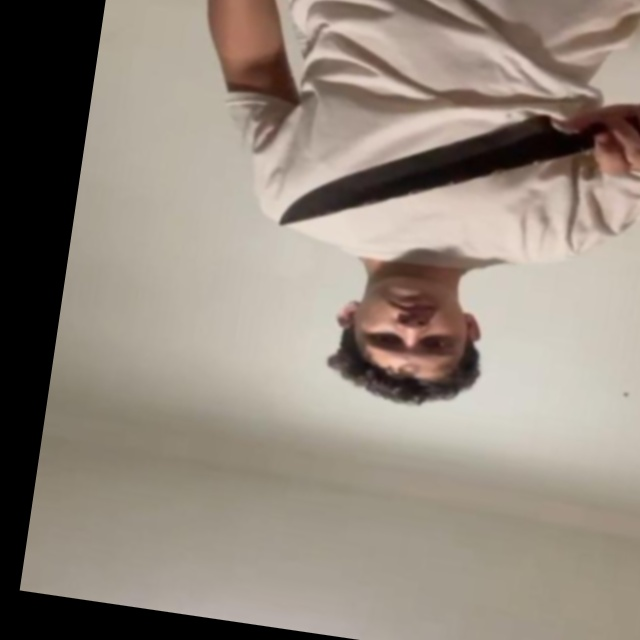Sharp-Object: (278, 81, 577, 267)
